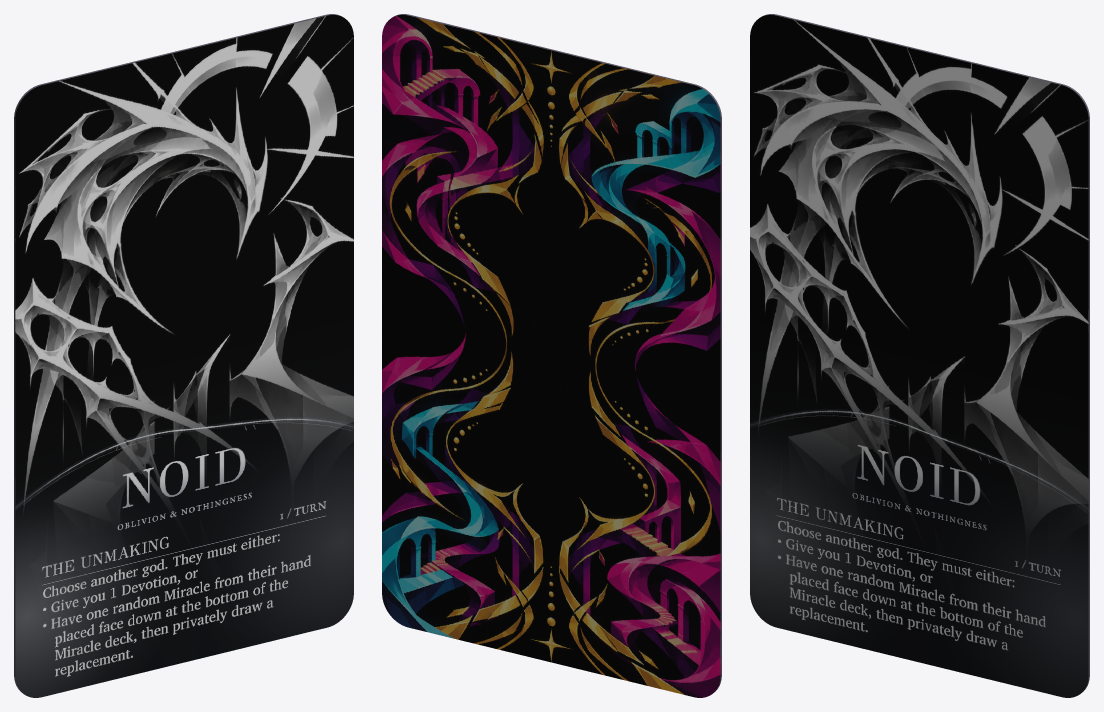
Rendered from SGLD_NOID_TACTILE_TAROT_CARD_3D_v1.2-P.glb.
3 renders of one model, left to right at view 1: azimuth 30°, elevation 25°; view 2: azimuth 150°, elevation 25°; view 3: azimuth 330°, elevation 25°, orthographic.
Visible parts, largest first — view 1: NOID_FRONT, NOID_EDGE; view 2: NOID_BACK, NOID_EDGE; view 3: NOID_FRONT, NOID_EDGE.
Part boxes in pixels (box(x1,y1,x2,y2)): NOID_FRONT: box(15, 15, 353, 697); NOID_EDGE: box(14, 14, 343, 691); NOID_BACK: box(382, 15, 720, 697); NOID_EDGE: box(392, 14, 721, 691); NOID_FRONT: box(750, 15, 1088, 697); NOID_EDGE: box(760, 14, 1089, 691).
Bounding box in the file's own units: 0.0698 × 0.1207 × 0.00045.
Materials: 3 (2 with a texture image).
